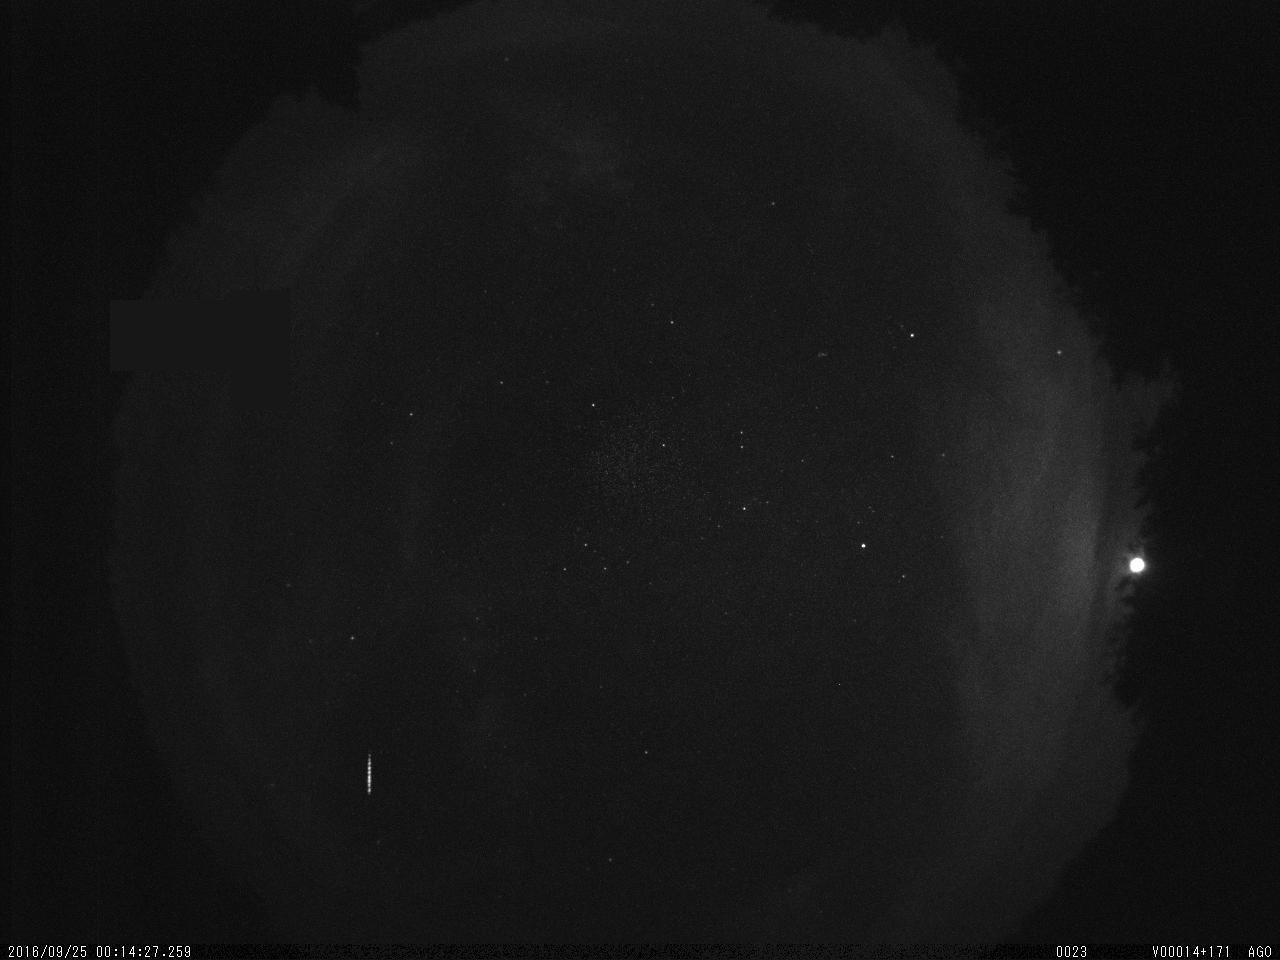meteor: (355, 746, 388, 805)
